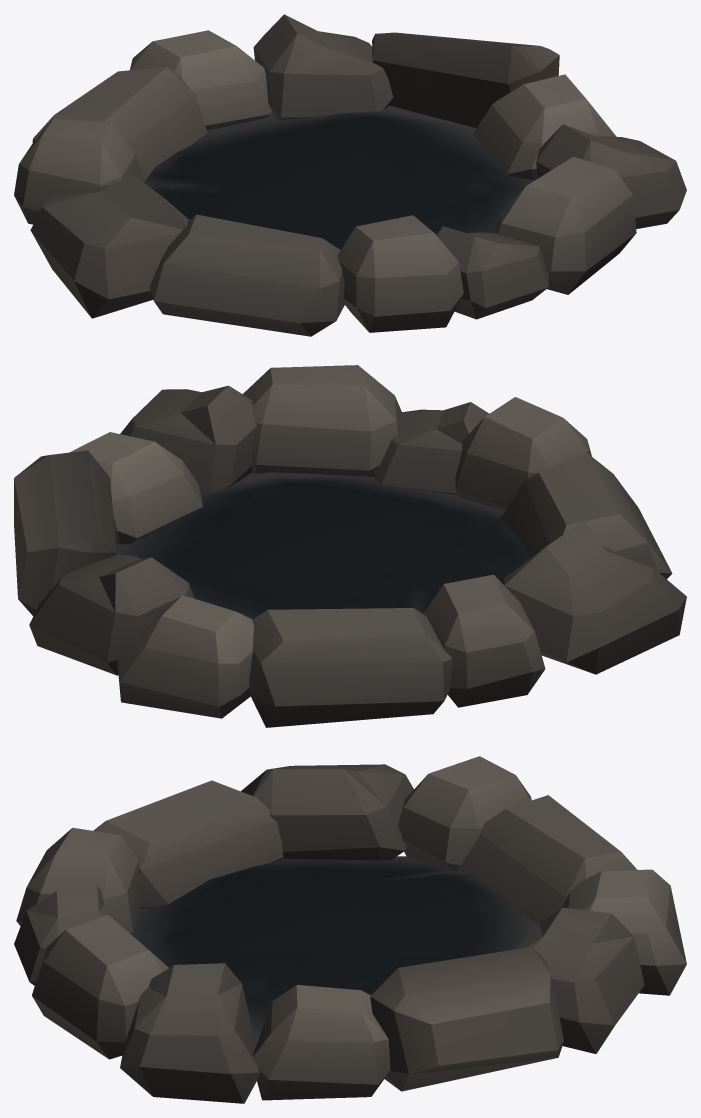
The model's file is Stone_FirePit.fbx.
3 renders of one model, top to bottom at view 1: azimuth 30°, elevation 25°; view 2: azimuth 150°, elevation 25°; view 3: azimuth 270°, elevation 25°, orthographic. The views are drawn at different scales.
Visible parts, largest first — view 1: Stone_FirePit; view 2: Stone_FirePit; view 3: Stone_FirePit.
Part boxes in pixels (x1,y1,x2,y2): Stone_FirePit: [14, 14, 686, 336]; Stone_FirePit: [14, 365, 686, 727]; Stone_FirePit: [14, 756, 686, 1103].
Size of the model in its own units: 118 by 116 by 21.83.
1 material, 1 textured.
